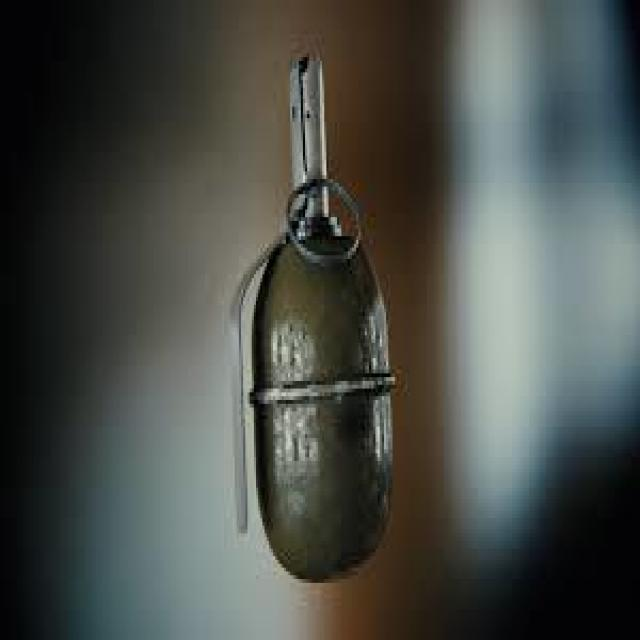grenade: (225, 36, 398, 585)
